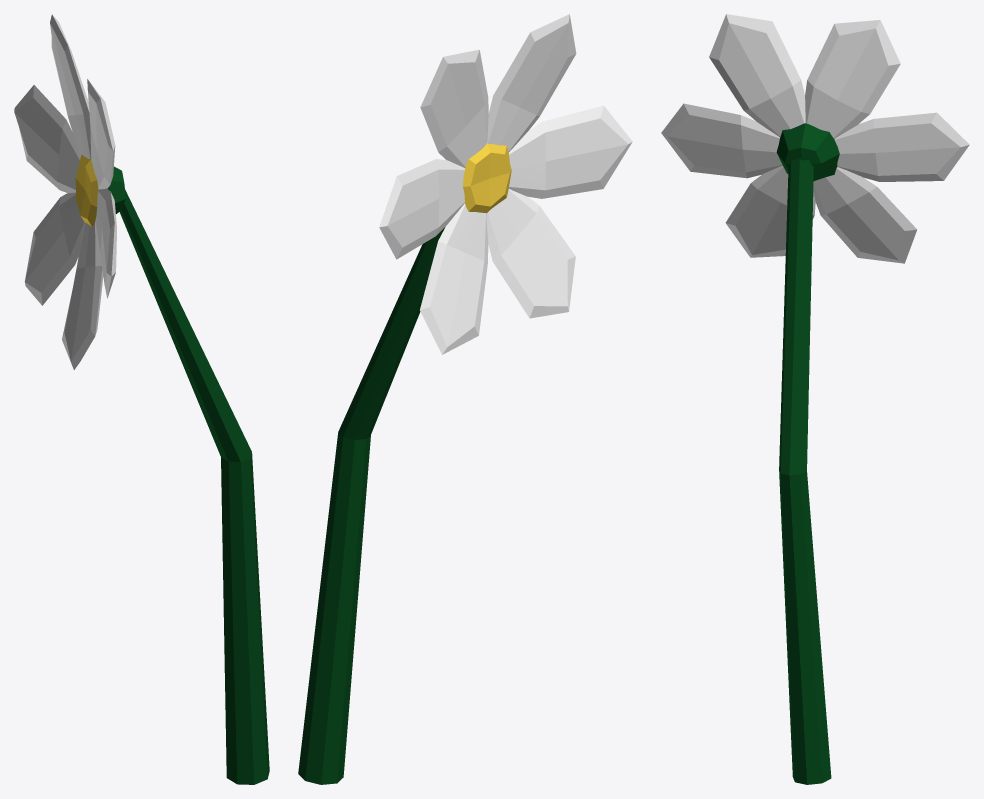
The model's file is Flower_Kitchen_Flower3_231109.glb.
The picture shows the model from 3 angles, left to right: view 1: azimuth 30°, elevation 25°; view 2: azimuth 150°, elevation 25°; view 3: azimuth 270°, elevation 25°; orthographic projection. The views are drawn at different scales.
Visible parts, largest first — view 1: Kitchen_Flower3; view 2: Kitchen_Flower3; view 3: Kitchen_Flower3.
Boxes of the visible parts, left/top/right/bottom form: Kitchen_Flower3: left=14, top=14, right=269, bottom=784; Kitchen_Flower3: left=298, top=14, right=632, bottom=784; Kitchen_Flower3: left=661, top=14, right=969, bottom=784.
Bounding box in the file's own units: 0.1965 × 0.6041 × 0.2447.
Materials: 1 (1 with a texture image).
